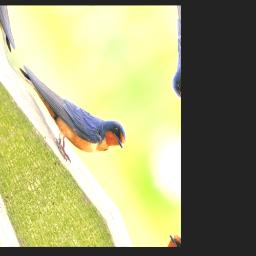Swallow: (11, 29, 135, 186)
